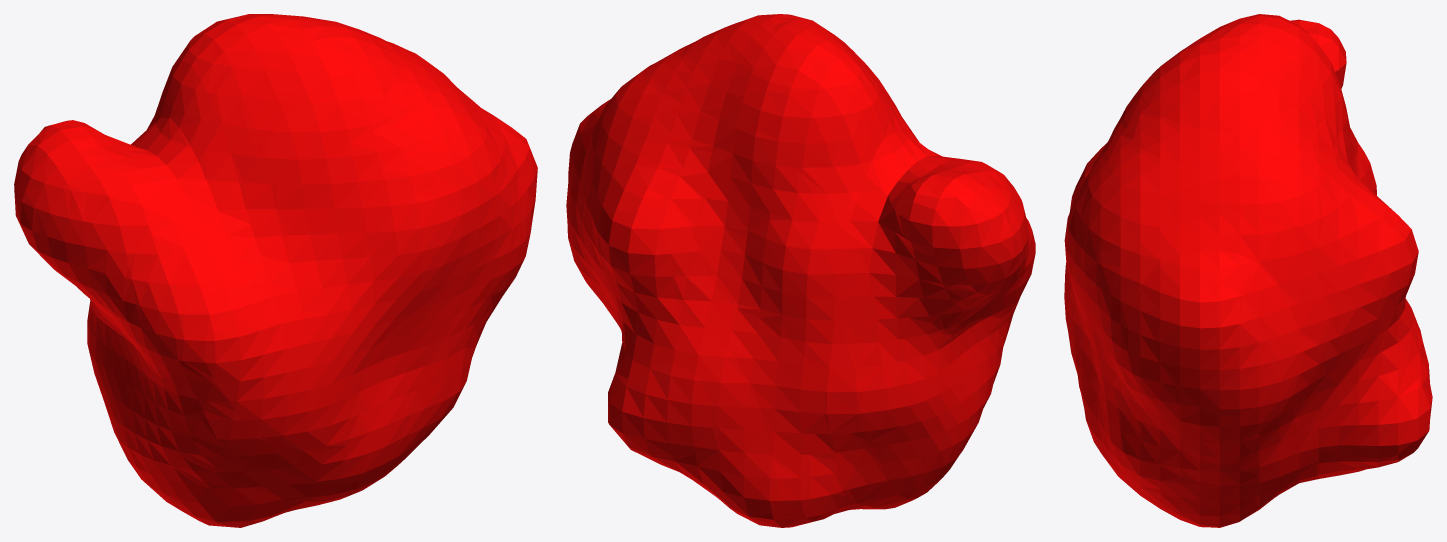
The model's file is tusA_coarse.dae.
3 views of the same model, side by side, from view 1: azimuth 30°, elevation 25°; view 2: azimuth 150°, elevation 25°; view 3: azimuth 270°, elevation 25° (orthographic).
Parts seen in each view (by area): view 1: tusA; view 2: tusA; view 3: tusA.
Part boxes in pixels (<box>): tusA: <box>14,14,537,527</box>; tusA: <box>566,14,1035,527</box>; tusA: <box>1064,14,1432,527</box>.
Size of the model in its own units: 38.13 by 35.93 by 25.39.
